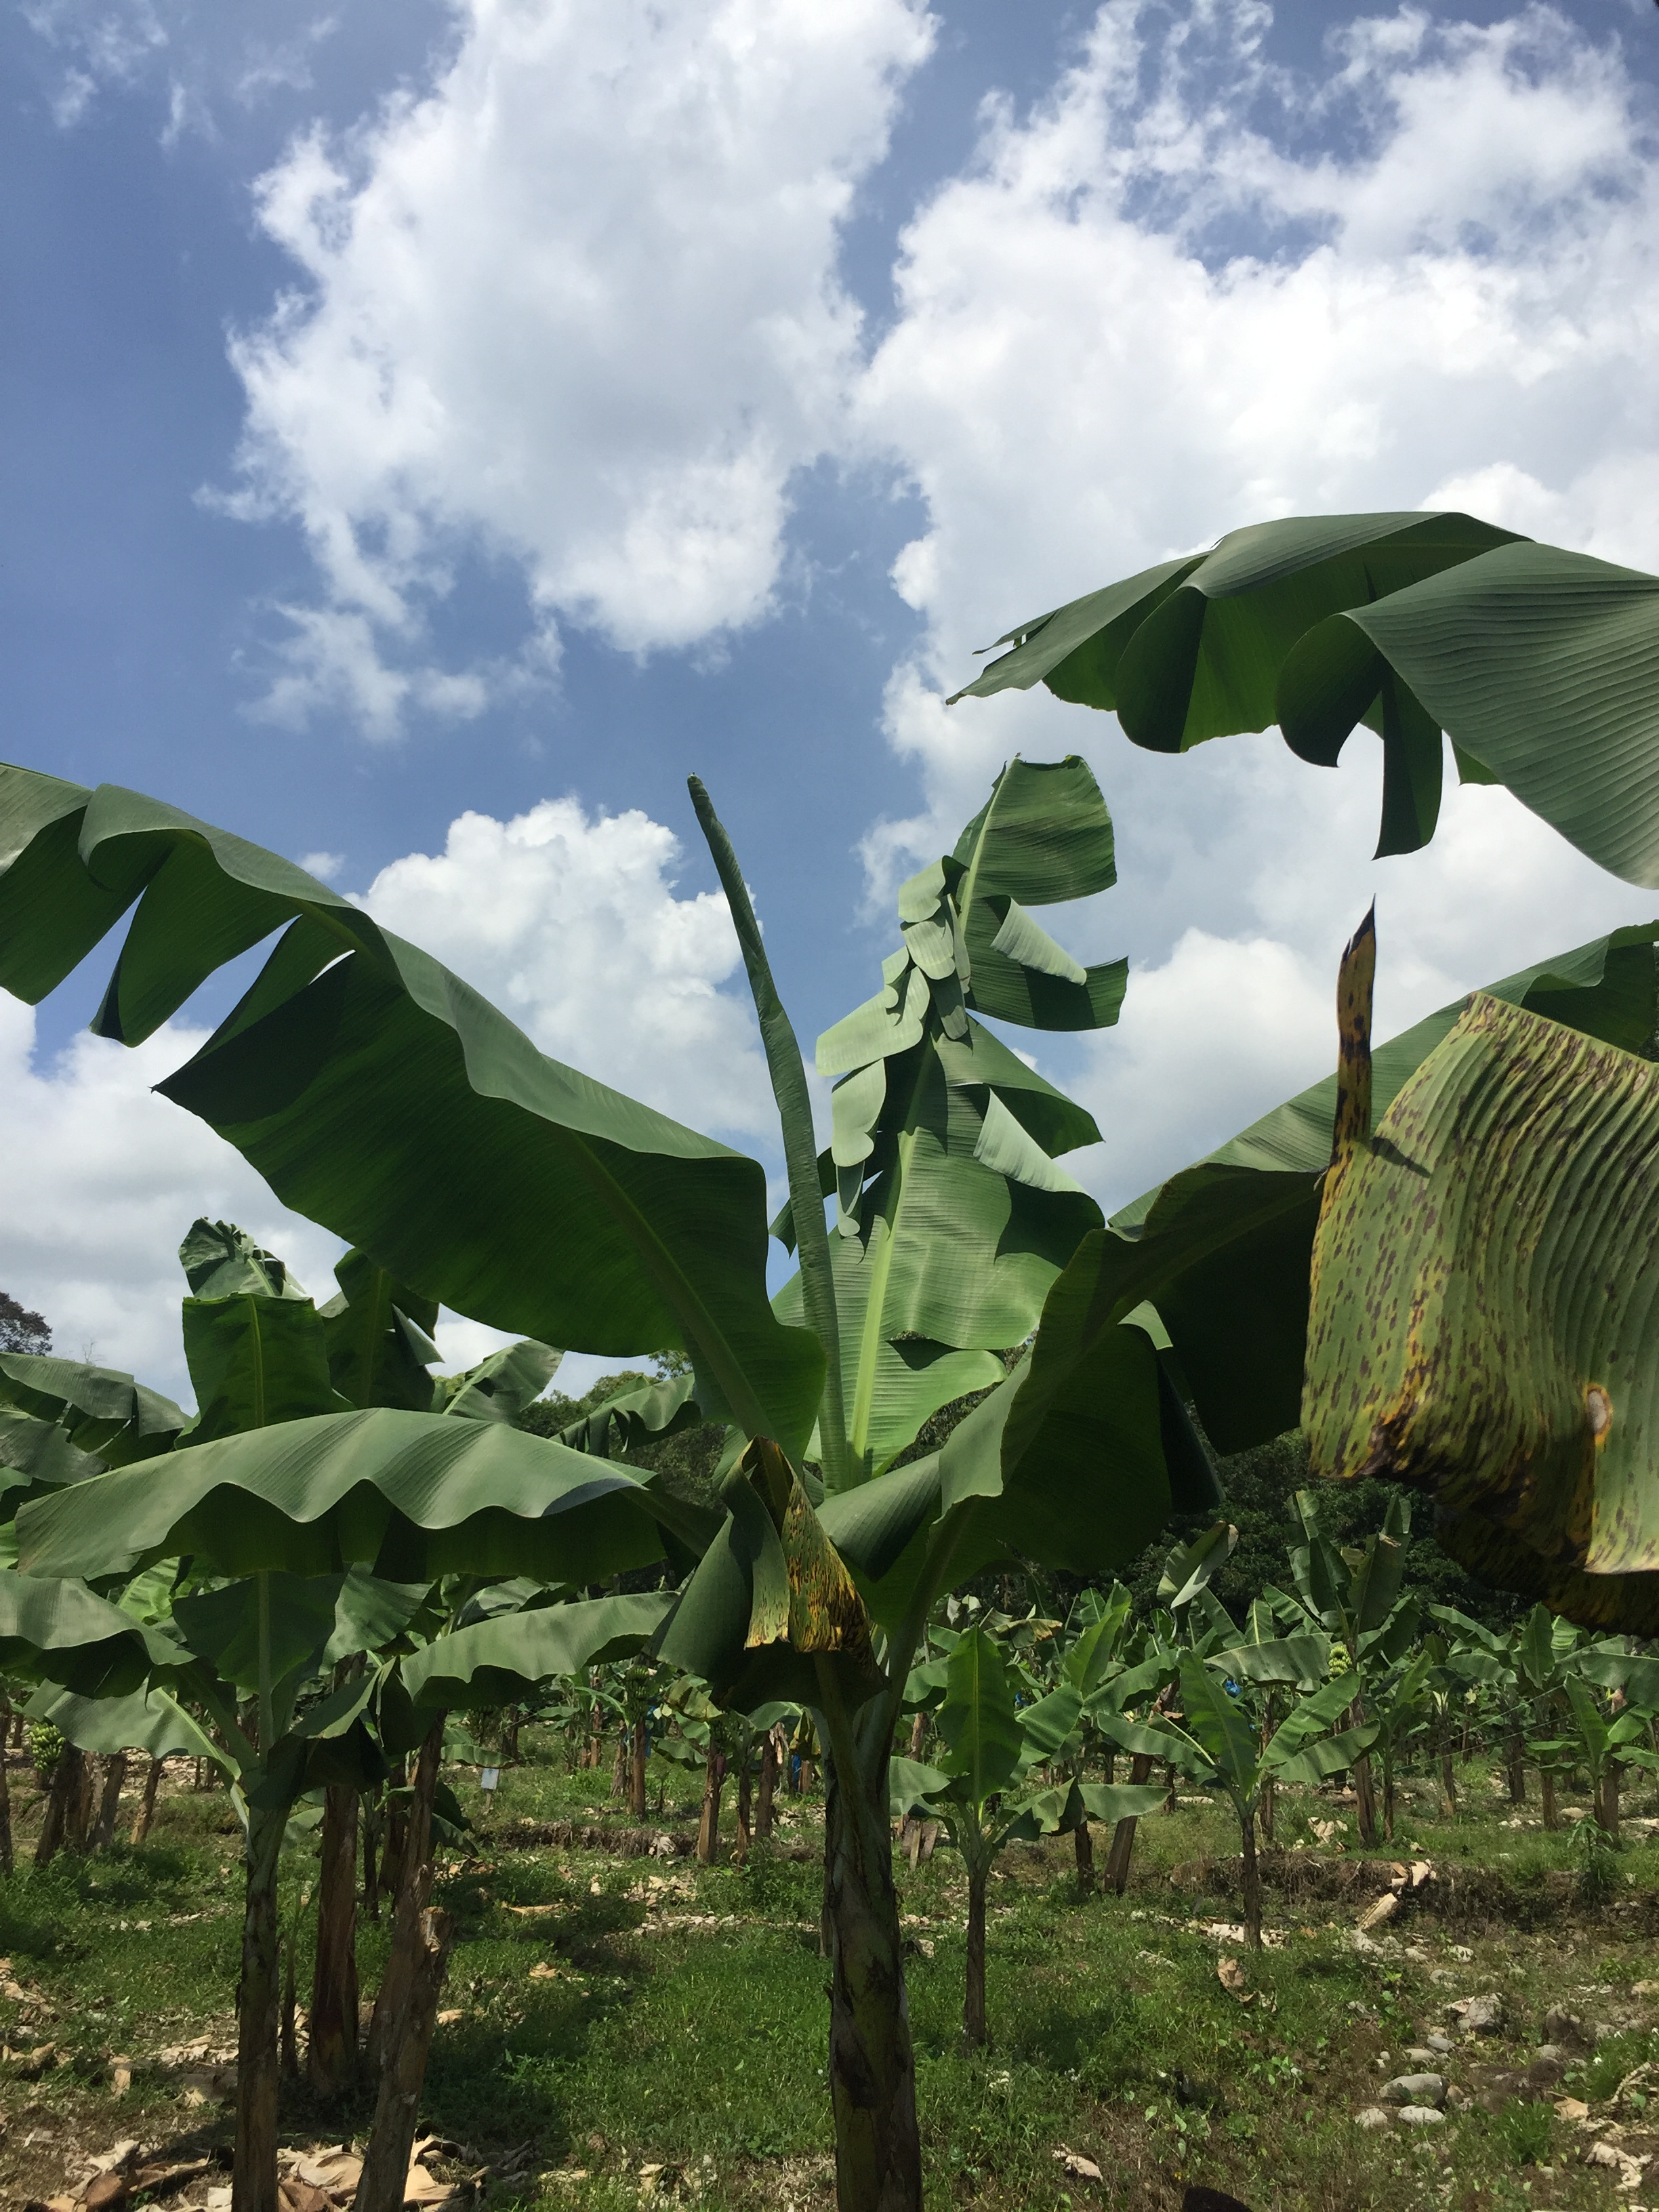candleleafs: (688, 773, 843, 1500)
